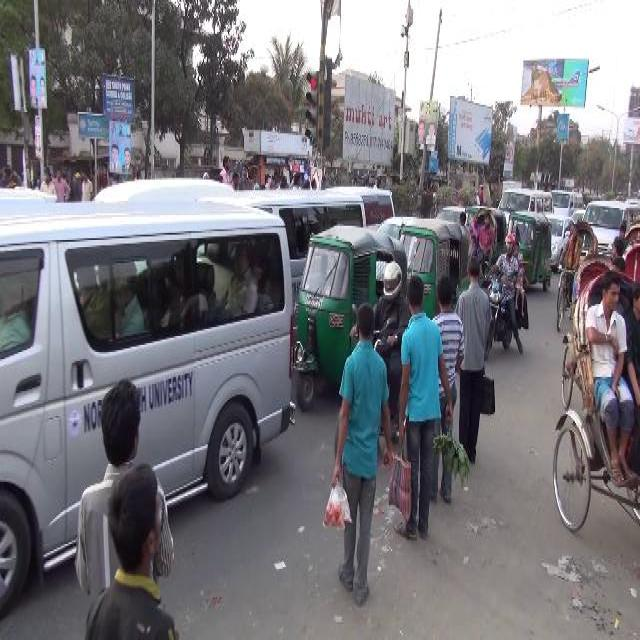minivan: (0, 201, 297, 622), (580, 198, 636, 246)
motorbike: (482, 233, 530, 361)
rickshaw: (552, 214, 598, 326)
three wheelers -CNG-: (294, 217, 406, 409), (398, 217, 469, 331), (506, 207, 554, 294), (508, 210, 554, 292)
